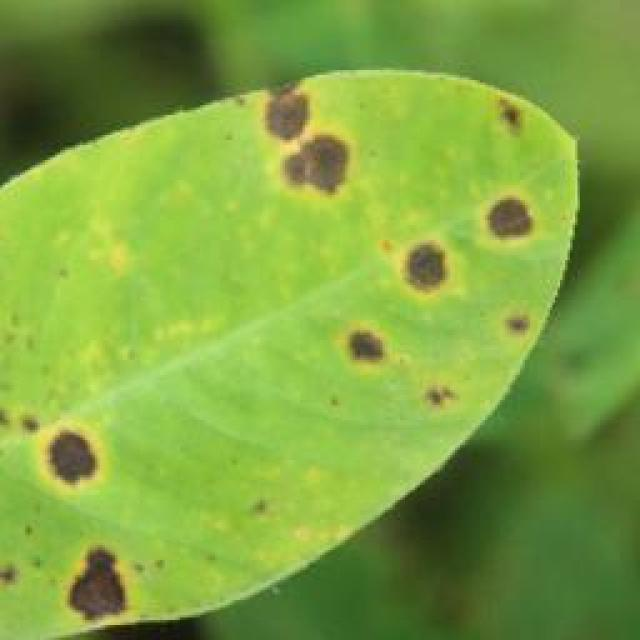Early_leaf_spot: (14, 513, 151, 627), (444, 268, 567, 387), (293, 235, 394, 378), (17, 387, 112, 509), (454, 161, 546, 265), (250, 96, 341, 188), (464, 80, 555, 165), (374, 359, 477, 420), (396, 252, 464, 306)
